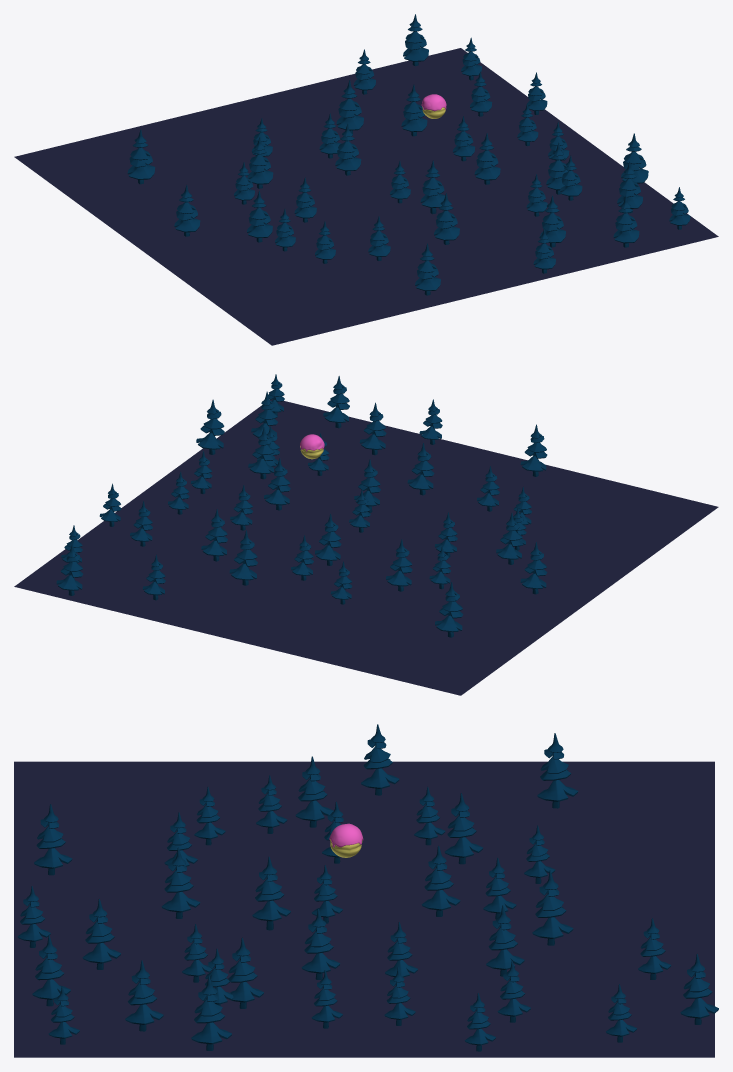
3 renders of one model, top to bottom at view 1: azimuth 30°, elevation 25°; view 2: azimuth 150°, elevation 25°; view 3: azimuth 270°, elevation 25°, orthographic. The views are drawn at different scales.
Visible parts, largest first — view 1: Plane, tree_pine_SC_04.009, tree_pine_SC_04.016, tree_pine_SC_04.014, tree_pine_SC_04.022, tree_pine_SC_04.012, tree_pine_SC_04.027, tree_pine_SC_04.002, tree_pine_SC_04.018, tree_pine_SC_04.005, tree_pine_SC_04.007, tree_pine_SC_04.029 (+14 smaller); view 2: Plane, tree_pine_SC_04.016, tree_pine_SC_04.033, tree_pine_SC_04.009, tree_pine_SC_04.014, tree_pine_SC_04.018, tree_pine_SC_04.007, tree_pine_SC_04.022, tree_pine_SC_04.027, tree_pine_SC_04.029, tree_pine_SC_04.003, tree_pine_SC_04.005 (+13 smaller); view 3: Plane, tree_pine_SC_04.009, tree_pine_SC_04.033, tree_pine_SC_04.016, tree_pine_SC_04, tree_pine_SC_04.018, tree_pine_SC_04.025, tree_pine_SC_04.022, tree_pine_SC_04.002, tree_pine_SC_04.003, tree_pine_SC_04.005, tree_pine_SC_04.014 (+25 smaller).
Part boxes in pixels (x1,y1,x2,y2): Plane: (14,48,718,345); tree_pine_SC_04.009: (127,129,155,184); tree_pine_SC_04.016: (336,80,363,133); tree_pine_SC_04.014: (434,193,459,244); tree_pine_SC_04.022: (403,14,428,66); tree_pine_SC_04.012: (474,133,500,184); tree_pine_SC_04.027: (613,196,639,247); tree_pine_SC_04.002: (335,123,361,175); tree_pine_SC_04.018: (174,185,200,236); tree_pine_SC_04.005: (247,190,272,242); tree_pine_SC_04.007: (401,84,427,136); tree_pine_SC_04.029: (415,243,440,295); Plane: (14,399,718,695); tree_pine_SC_04.016: (229,530,257,585); tree_pine_SC_04.033: (196,399,224,454); tree_pine_SC_04.009: (435,582,463,637); tree_pine_SC_04.014: (407,443,434,495); tree_pine_SC_04.018: (520,542,547,594); tree_pine_SC_04.007: (201,509,227,561); tree_pine_SC_04.022: (56,543,83,595); tree_pine_SC_04.027: (323,376,349,428); tree_pine_SC_04.029: (520,424,547,476); tree_pine_SC_04.003: (386,539,412,591); tree_pine_SC_04.005: (496,513,522,564); Plane: (14,761,714,1057); tree_pine_SC_04.009: (537,733,578,808); tree_pine_SC_04.033: (191,976,231,1050); tree_pine_SC_04.016: (532,870,573,945); tree_pine_SC_04: (252,856,290,930); tree_pine_SC_04.018: (361,724,399,795); tree_pine_SC_04.025: (125,960,163,1031); tree_pine_SC_04.022: (680,954,718,1024); tree_pine_SC_04.002: (421,846,460,916); tree_pine_SC_04.003: (444,793,482,864); tree_pine_SC_04.005: (295,756,333,827); tree_pine_SC_04.014: (161,847,200,918).
Size of the model in its own units: 118 by 23.66 by 118.
